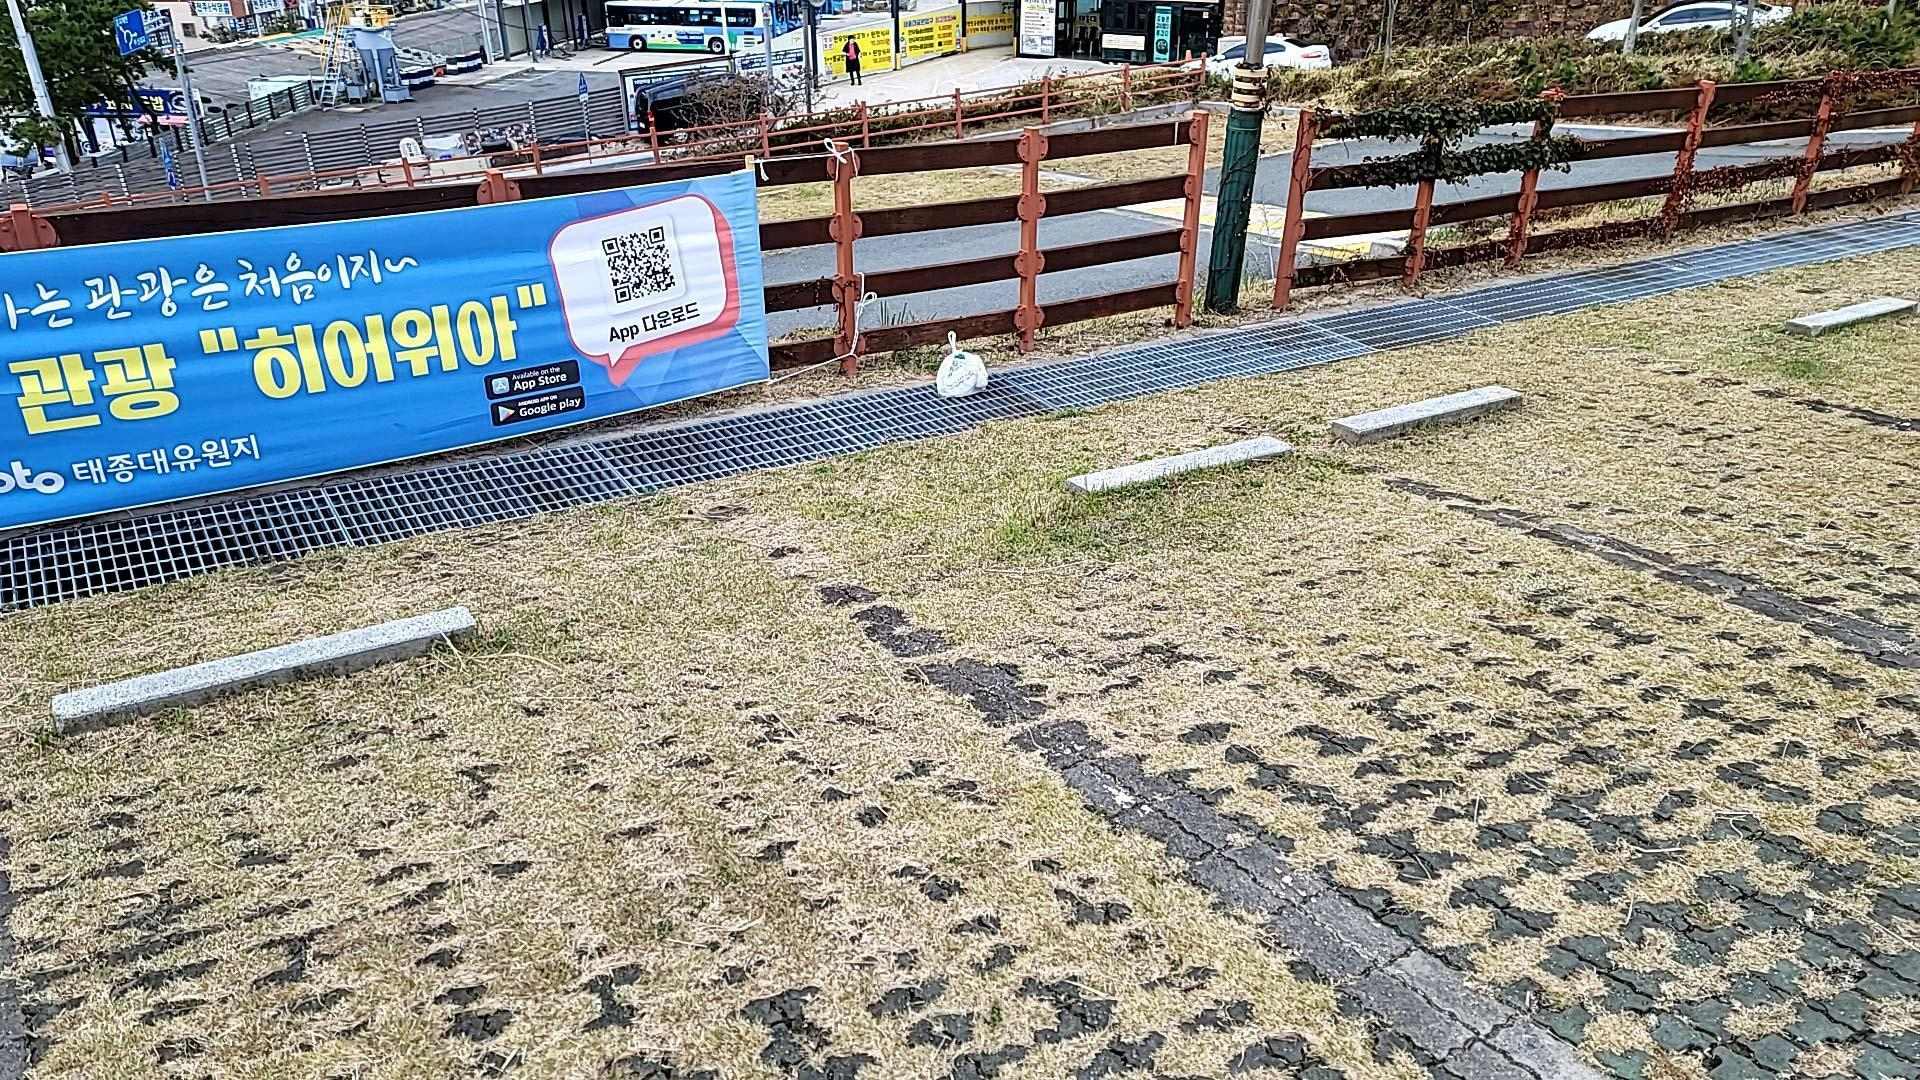white_bag: (928, 326, 994, 401)
